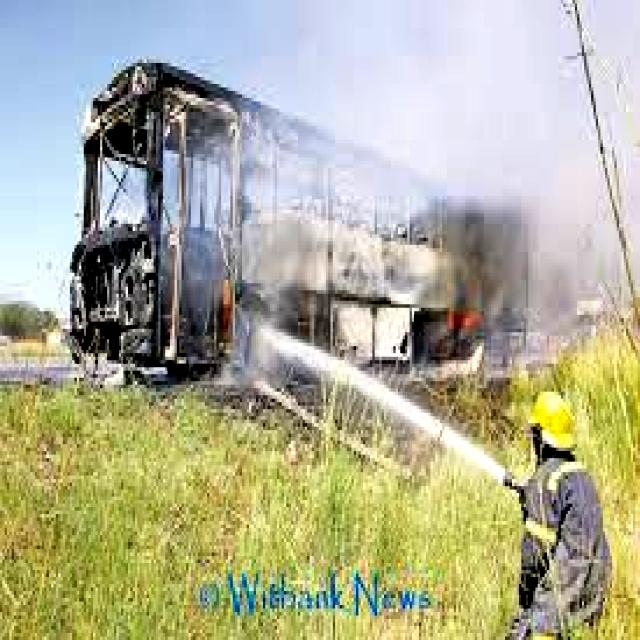no_helmet: (249, 0, 620, 342)
